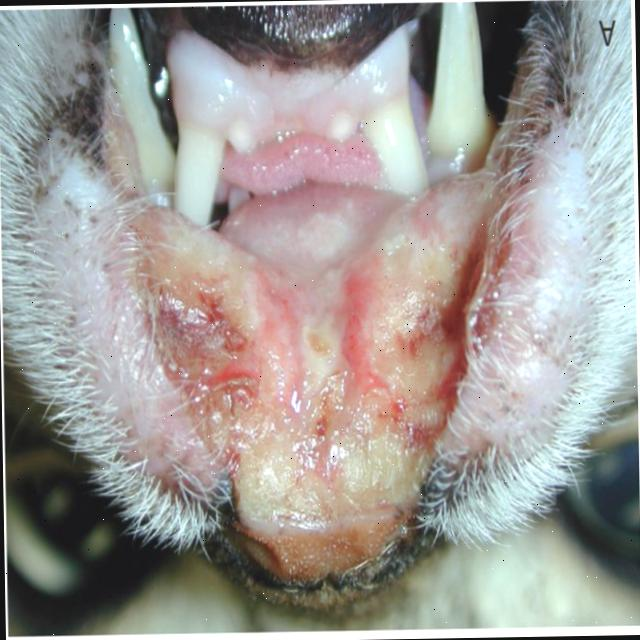cat-ulcer: (157, 268, 490, 442), (242, 446, 408, 517)
